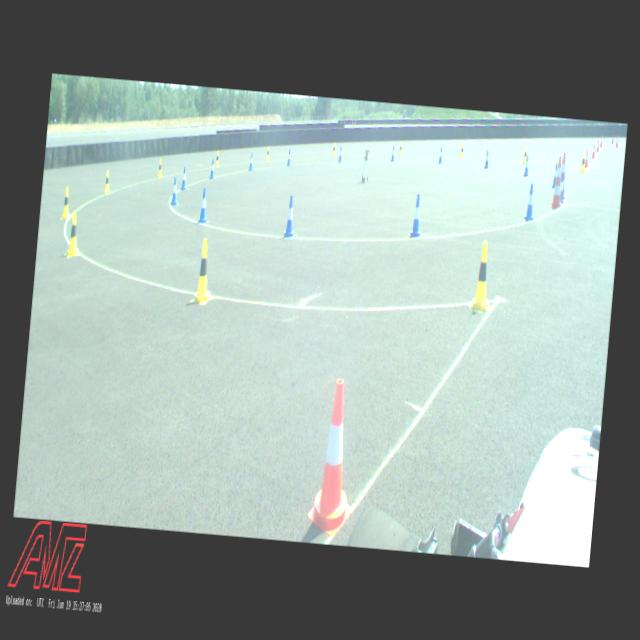blue_cone: (408, 194, 424, 238), (282, 195, 298, 237), (198, 186, 210, 224), (524, 182, 536, 220), (170, 177, 179, 206), (558, 172, 566, 204), (550, 162, 558, 188), (180, 166, 188, 190), (523, 154, 530, 176), (209, 159, 216, 179), (248, 152, 255, 170), (286, 149, 292, 165), (484, 150, 489, 168), (390, 145, 395, 161), (438, 147, 443, 163), (338, 146, 342, 162)
large_orange_cone: (306, 376, 362, 538), (550, 156, 566, 208), (558, 153, 568, 200)
orange_cone: (584, 150, 589, 167), (591, 143, 596, 158), (596, 138, 600, 152), (615, 136, 618, 146), (600, 136, 602, 146)
unknown_cone: (612, 134, 614, 144)
yellow_cone: (470, 240, 495, 310), (191, 237, 215, 304), (66, 210, 82, 257), (60, 188, 71, 218), (104, 170, 112, 193), (156, 158, 164, 178), (579, 152, 586, 172), (215, 150, 220, 166), (398, 142, 403, 156), (522, 146, 526, 163), (460, 143, 464, 158), (266, 146, 270, 160), (332, 142, 336, 156)
